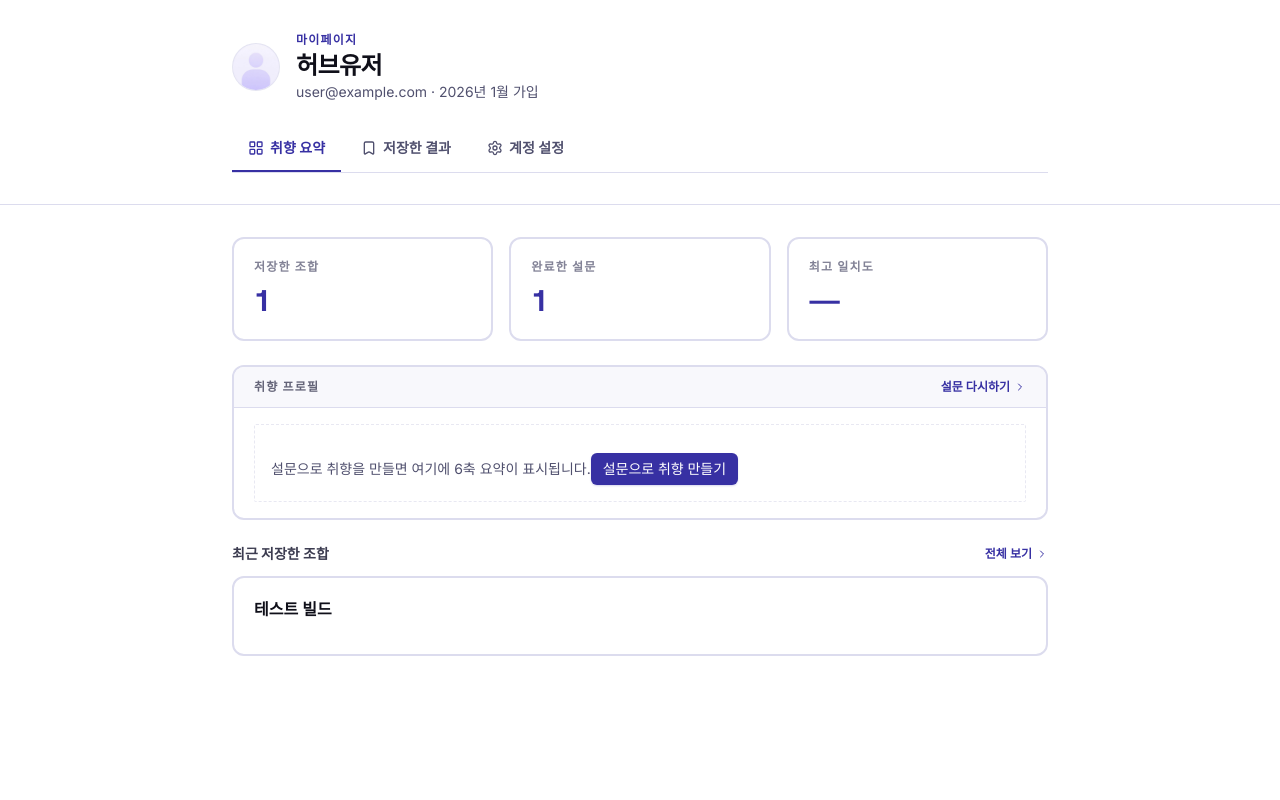
it: MyPageHub smoke › keeps saved builds when only security-summary fails
Expected: the heading "허브유저" is shown, [296, 50, 382, 81]
Click the tab "저장한 결과": [406, 149] box [345, 126, 467, 172]
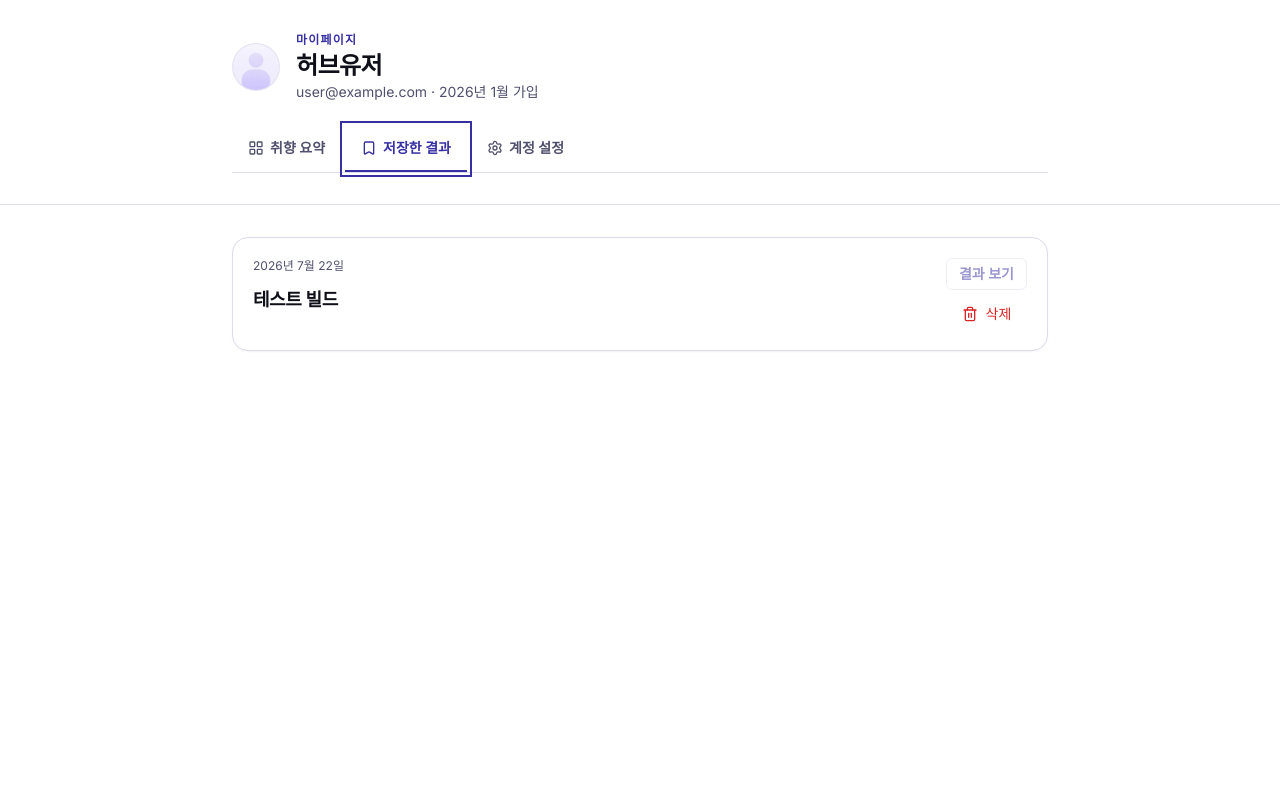
Expected: the list named "저장한 결과 목록" is shown, [232, 237, 1048, 351]
